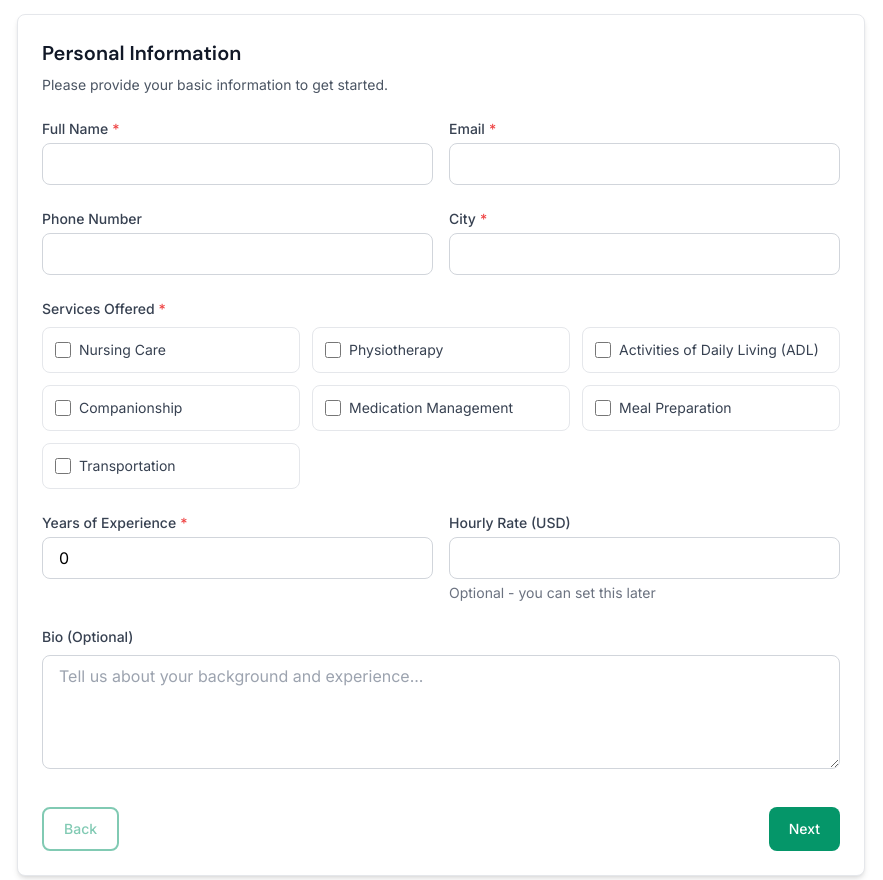
Test case: CaregiverOnboardWizard › shows validation errors for required fields
(page scrolled)
Try to proceed without filling required fields
Click the button "Next" at (804, 829), box [769, 807, 840, 851]
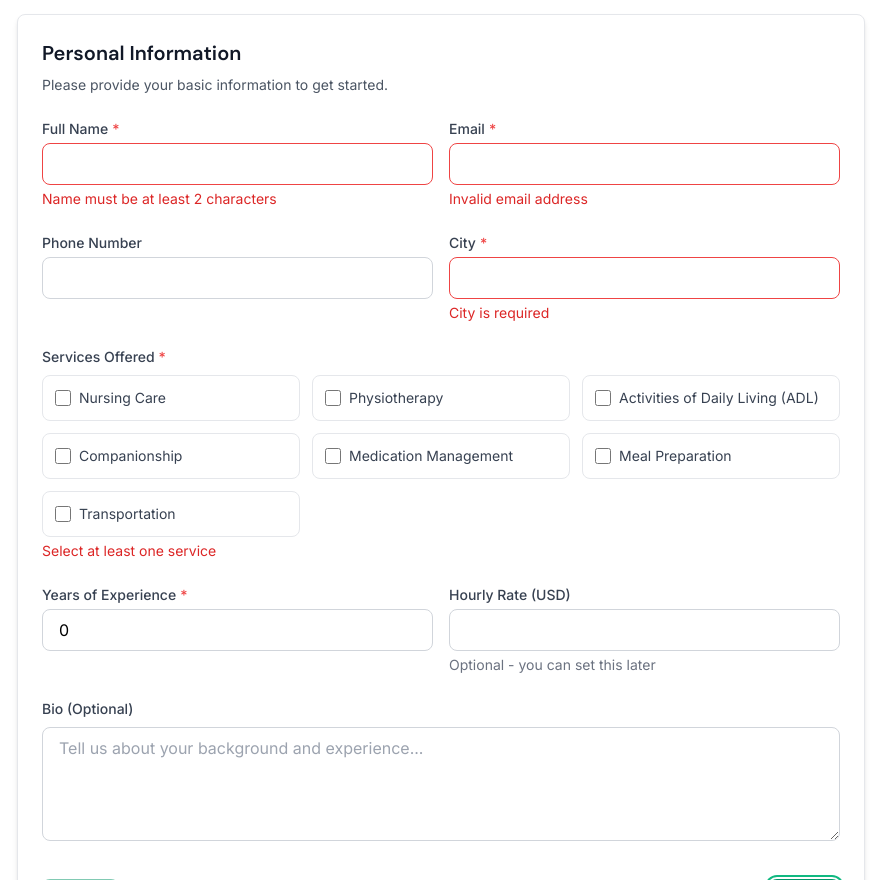
Expected: the text "Name must be at least 2 characters" is shown, [42, 190, 277, 207]
